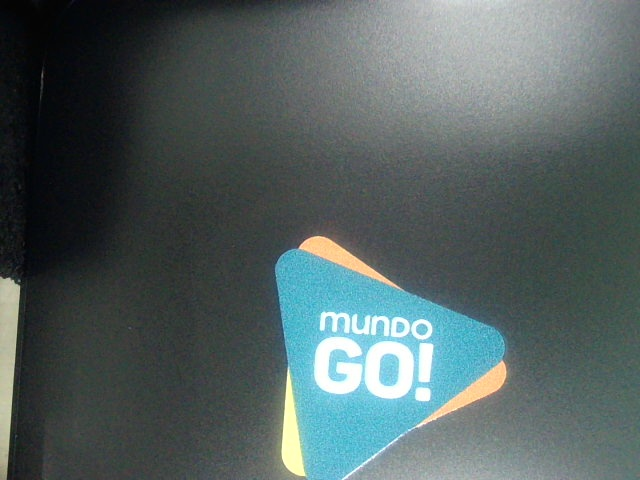AP_IPGMundoGO: (226, 225, 537, 477)
